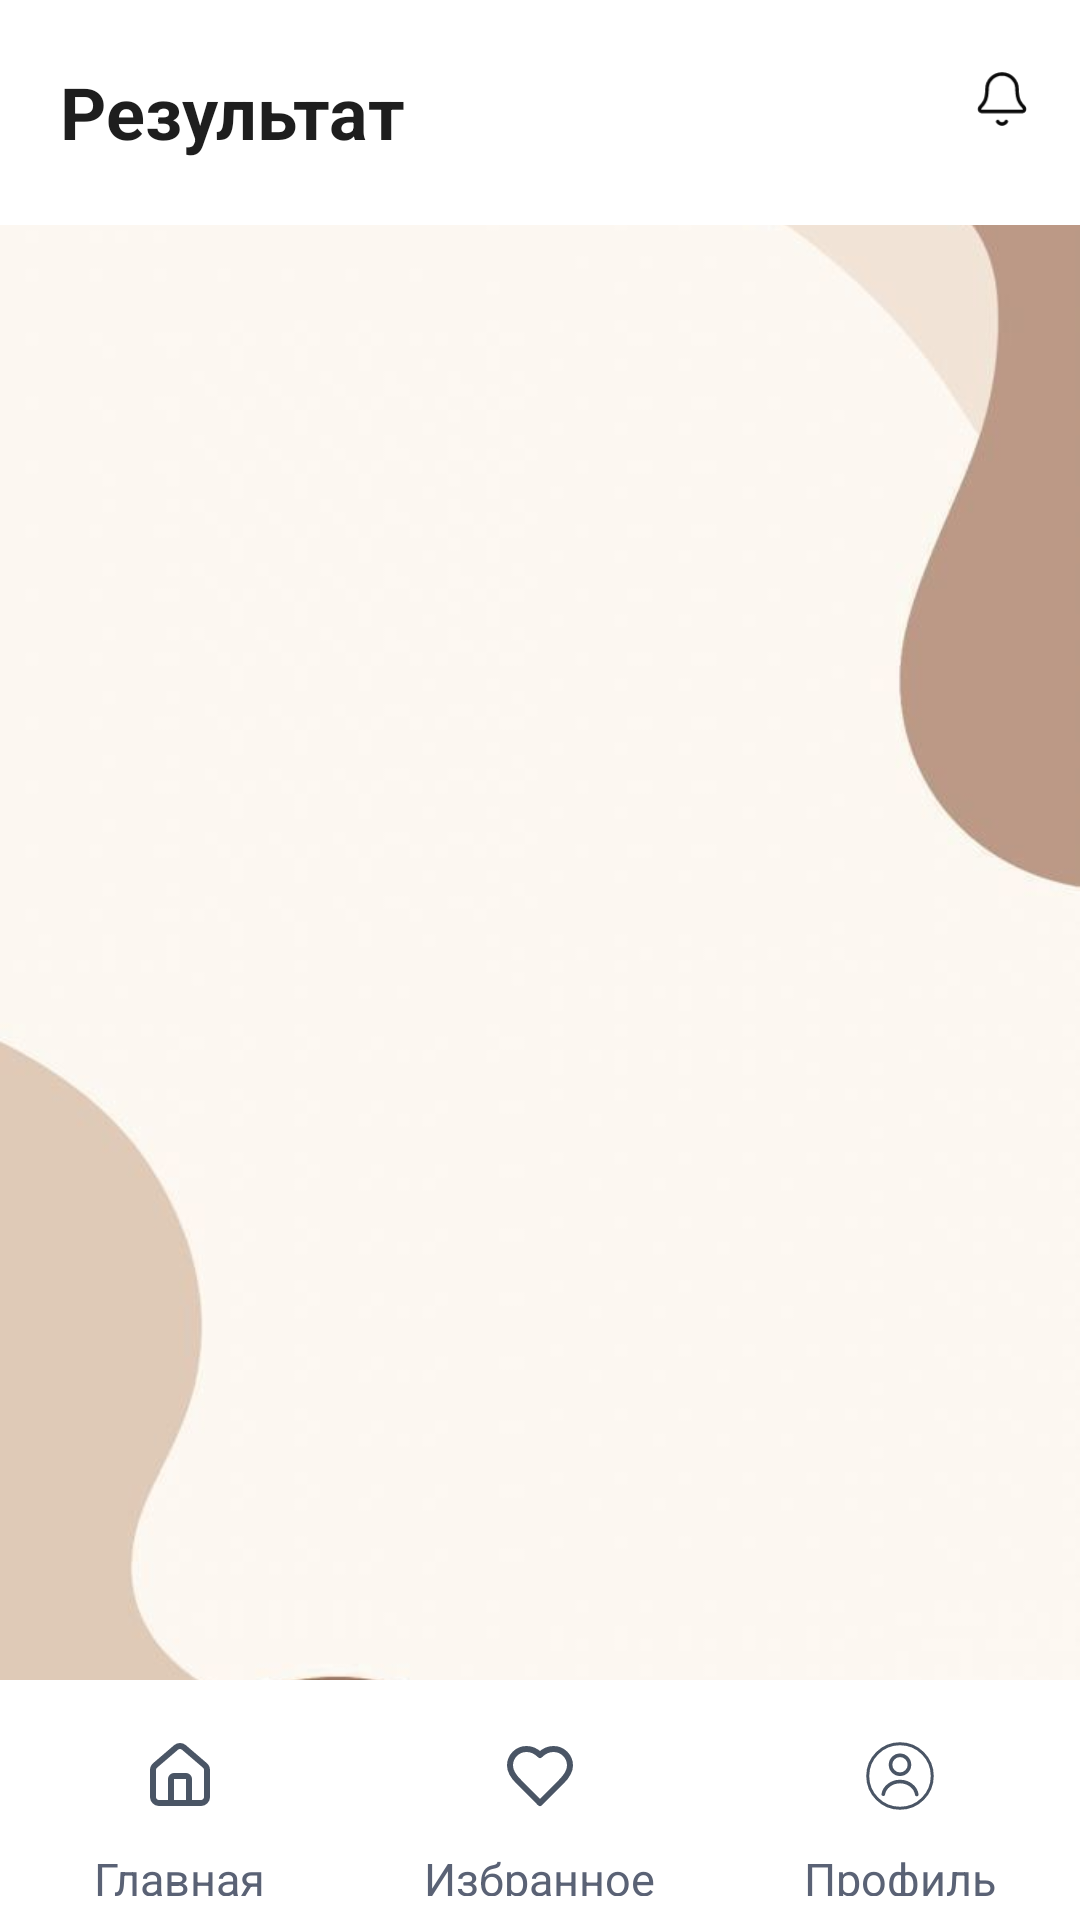

Where icons sit on this 1080px×1920px app screen, as BBox(x1, y1, x2, y2):
favoritelt: BBox(507, 1746, 573, 1806)
homelt: BBox(150, 1743, 210, 1806)
notificationlt: BBox(977, 72, 1027, 126)
profilelt: BBox(866, 1742, 934, 1810)
